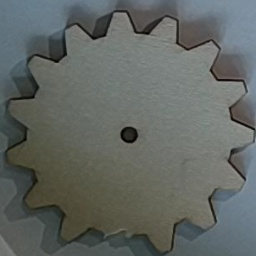Missing: (97, 225, 137, 255)
